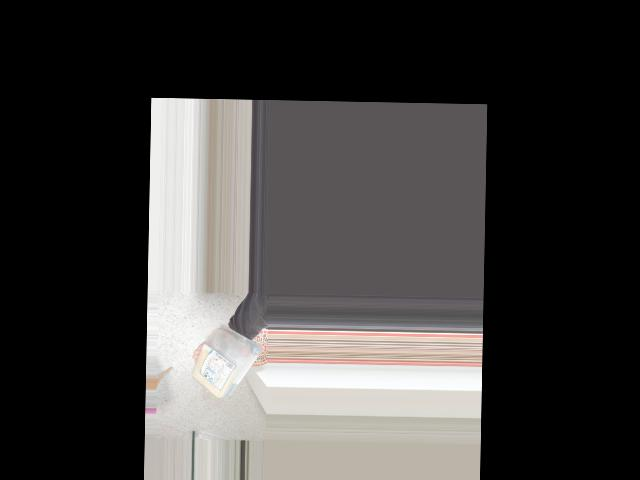cheese: (192, 331, 252, 397)
